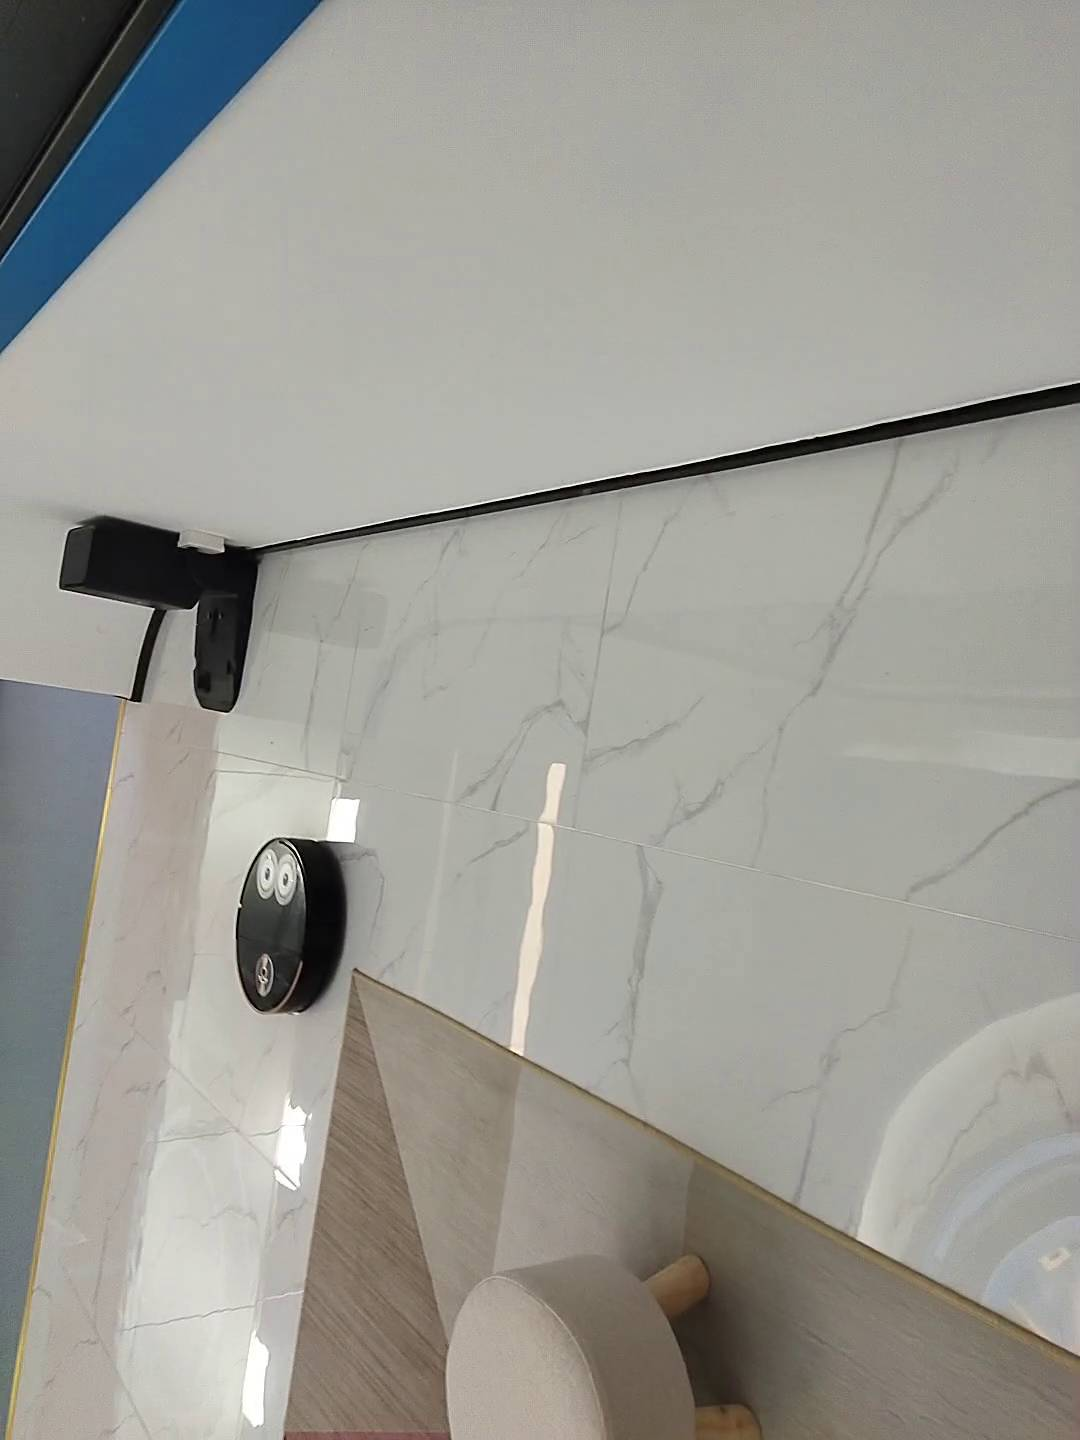dust collecting barrel: (57, 517, 264, 714)
